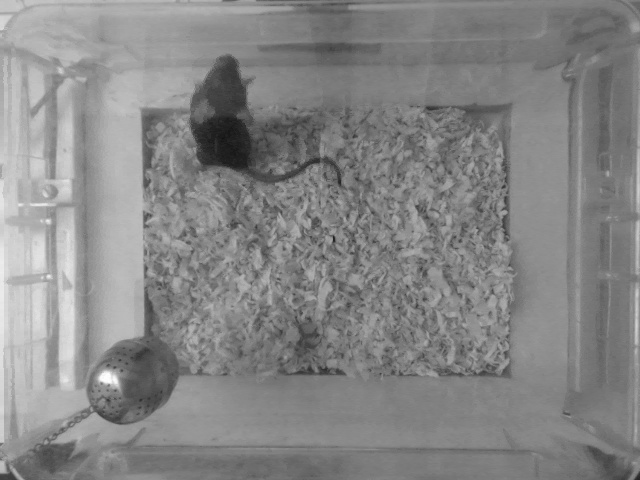mice: (183, 47, 348, 193)
